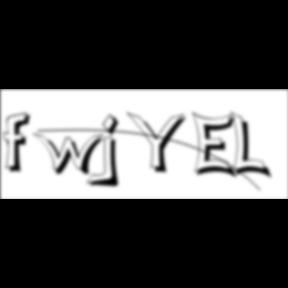E: (192, 110, 242, 182)
L: (231, 110, 275, 182)
Y: (127, 110, 194, 176)
f: (4, 111, 36, 175)
j: (100, 113, 126, 191)
w: (33, 132, 111, 178)
